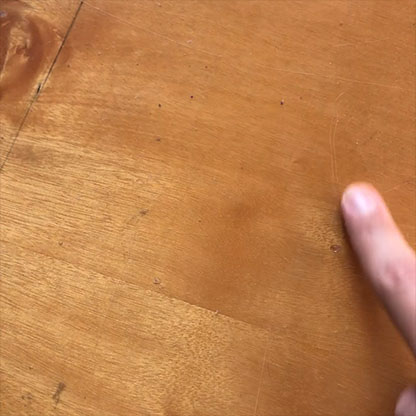fingertip: (337, 174, 404, 233)
